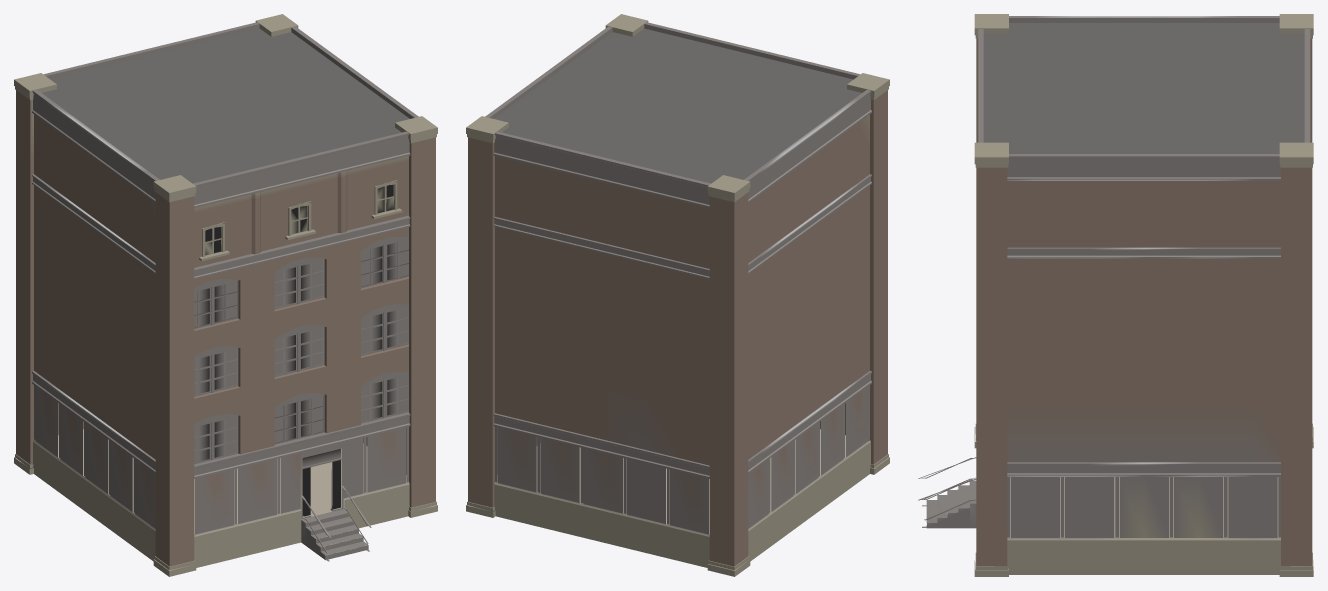
File: downtown_small.glb
3 views of the same model, side by side, from view 1: azimuth 30°, elevation 25°; view 2: azimuth 150°, elevation 25°; view 3: azimuth 270°, elevation 25° (orthographic). The views are drawn at different scales.
Visible parts, largest first — view 1: downtown_small; view 2: downtown_small; view 3: downtown_small.
Boxes of the visible parts, box(x1,y1,x2,y2) form: downtown_small: box(14, 14, 437, 576); downtown_small: box(466, 14, 889, 576); downtown_small: box(918, 14, 1313, 576).
Size of the model in its own units: 12.46 by 17.03 by 14.54.
